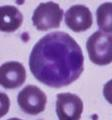N: (28, 31, 84, 87)
